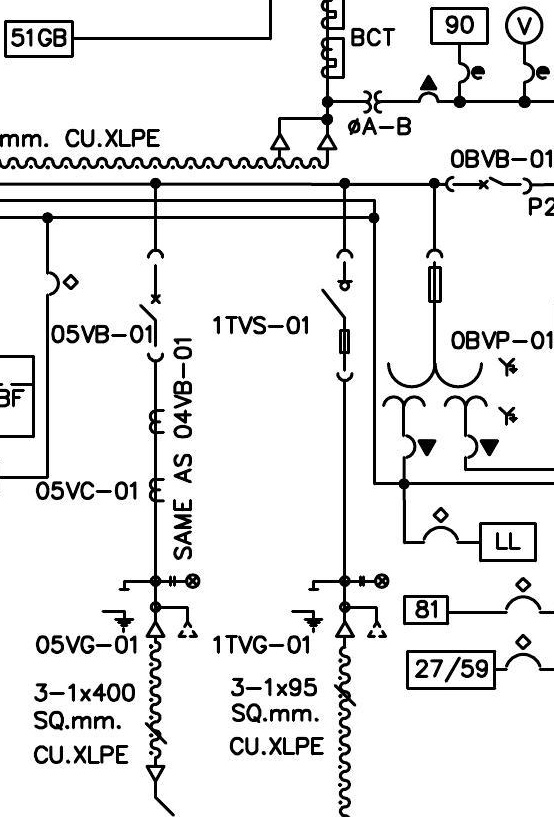22_breaker: (138, 248, 164, 363), (444, 175, 533, 196)
22_ds: (320, 248, 355, 383)
22_gs: (100, 588, 135, 634), (290, 588, 324, 635)
22_ll: (169, 573, 201, 590), (358, 573, 390, 590)
22_vt_3p: (381, 247, 519, 460)
LL: (478, 521, 538, 563)
terminator_double: (269, 116, 338, 151)
terminator_single: (145, 764, 166, 783)
terminator_w_future: (334, 606, 388, 639), (145, 606, 198, 638)
v_m: (504, 5, 545, 46)
